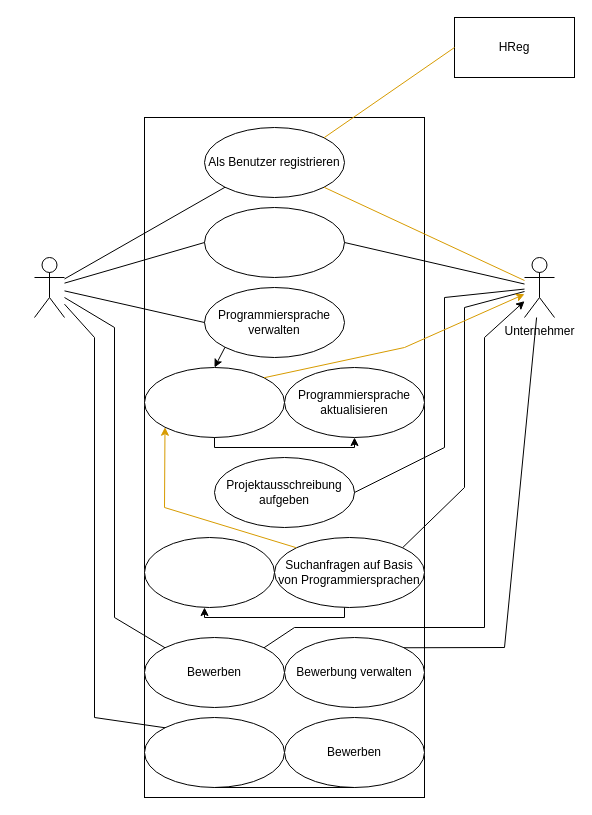
Some shapes in this 592 by 815 pixel diagram are drawn without their labels. Here are the shapes that lost their labels. From the top down, the centre of each, then its label:
(274,242): Einloggen über Eingabemaske
(49,287): Studierende
(214,402): Programmiersprachen abfragen
(209,572): Projekt planen
(214,752): Projektausschreibung suchen
